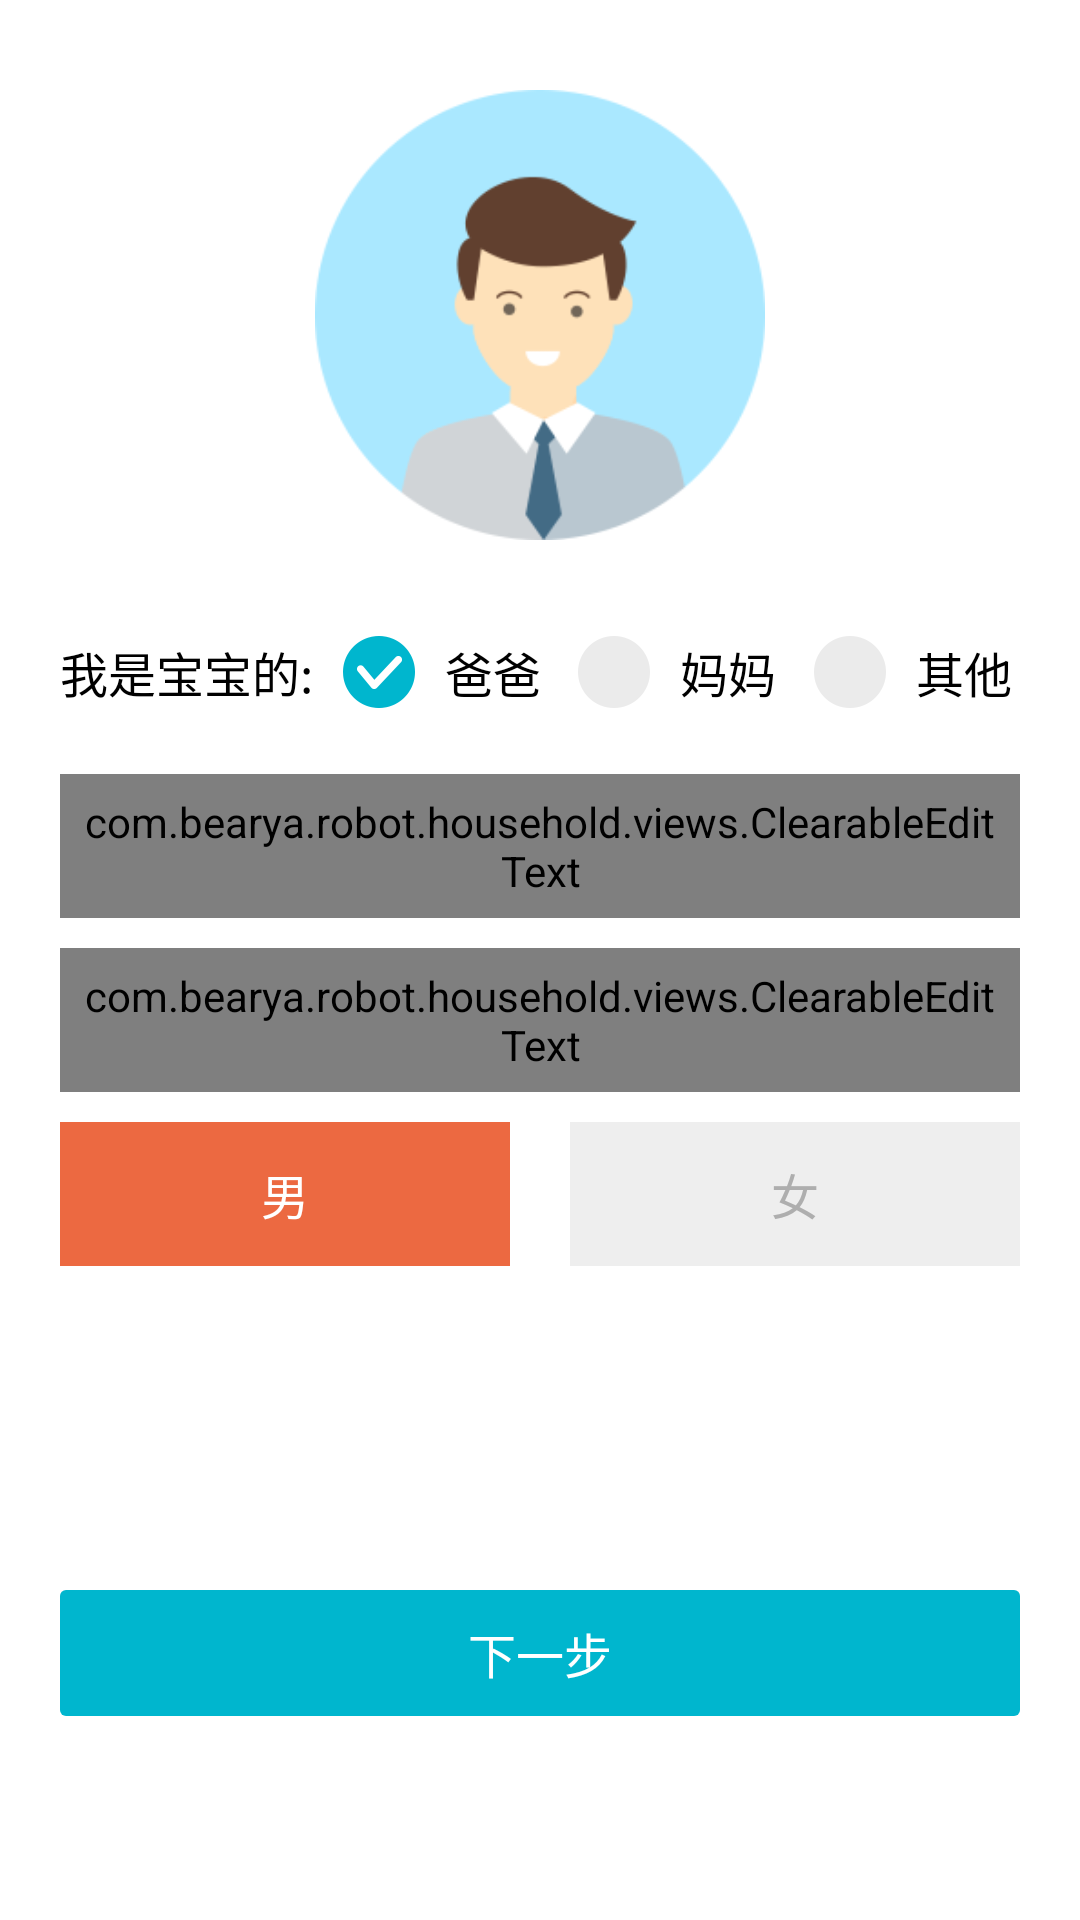

Locate icon controls on the screen. Image size 1080px x 1920px, boxes as (x1, y1, x2, y2).
check: (343, 636, 415, 708)
